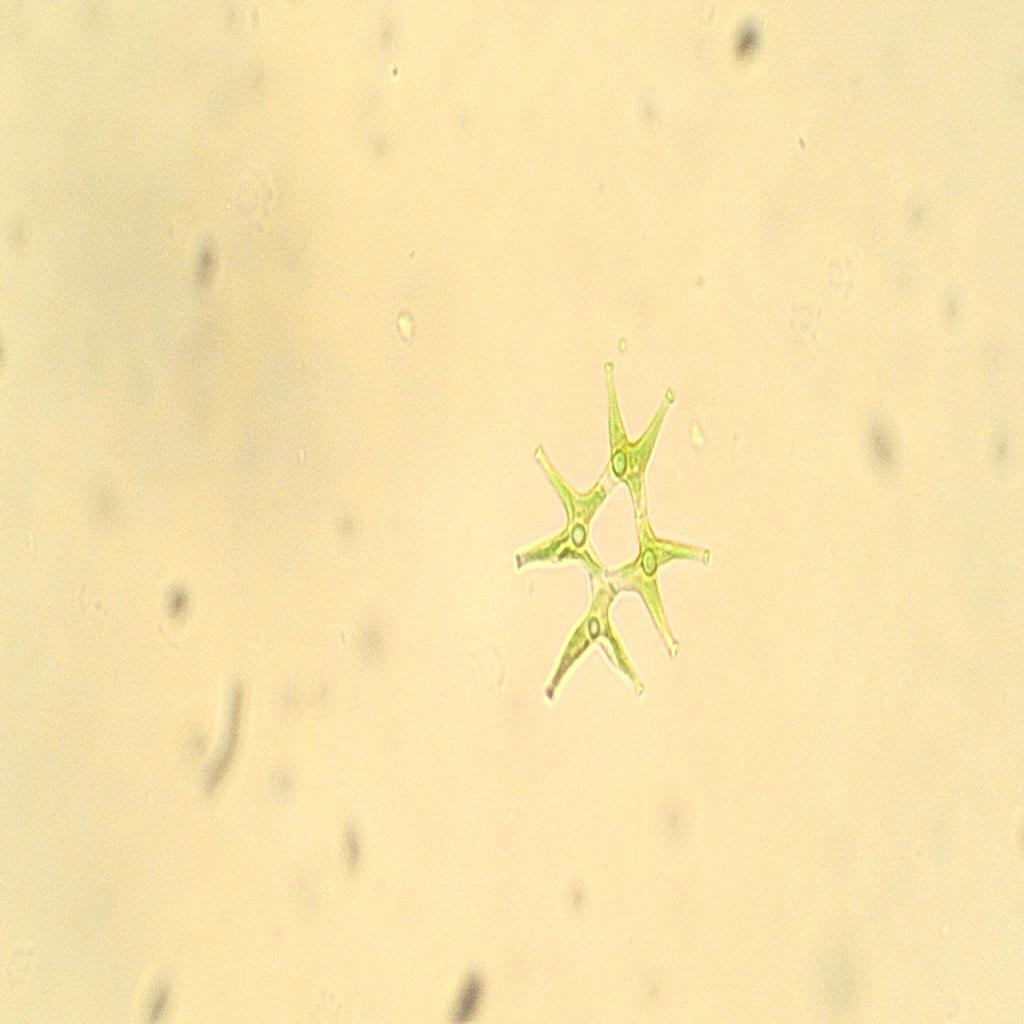Pediastrum_CT: (506, 342, 726, 729)
